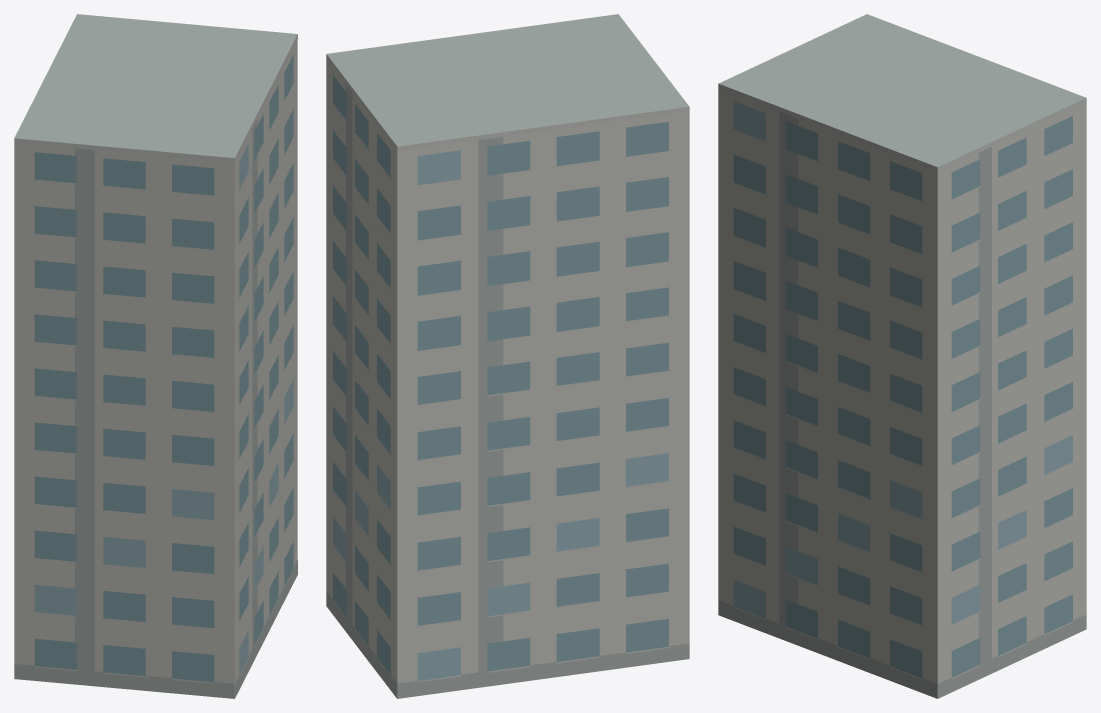
Rendered from residential-6e20f16d-76b9-496b-b711-e242fe0d9da6.glb.
3 views of the same model, side by side, from view 1: azimuth 30°, elevation 25°; view 2: azimuth 150°, elevation 25°; view 3: azimuth 270°, elevation 25° (orthographic). The views are drawn at different scales.
Parts seen in each view (by area): view 1: residential-6e20f16d-76b9-496b-b711-e242fe0d9da6.tmp; view 2: residential-6e20f16d-76b9-496b-b711-e242fe0d9da6.tmp; view 3: residential-6e20f16d-76b9-496b-b711-e242fe0d9da6.tmp.
Boxes of the visible parts, x1=… form: residential-6e20f16d-76b9-496b-b711-e242fe0d9da6.tmp: x1=14, y1=14, x2=297, y2=698; residential-6e20f16d-76b9-496b-b711-e242fe0d9da6.tmp: x1=326, y1=14, x2=689, y2=698; residential-6e20f16d-76b9-496b-b711-e242fe0d9da6.tmp: x1=718, y1=14, x2=1086, y2=698.
Size of the model in its own units: 17.32 by 28 by 17.58.
